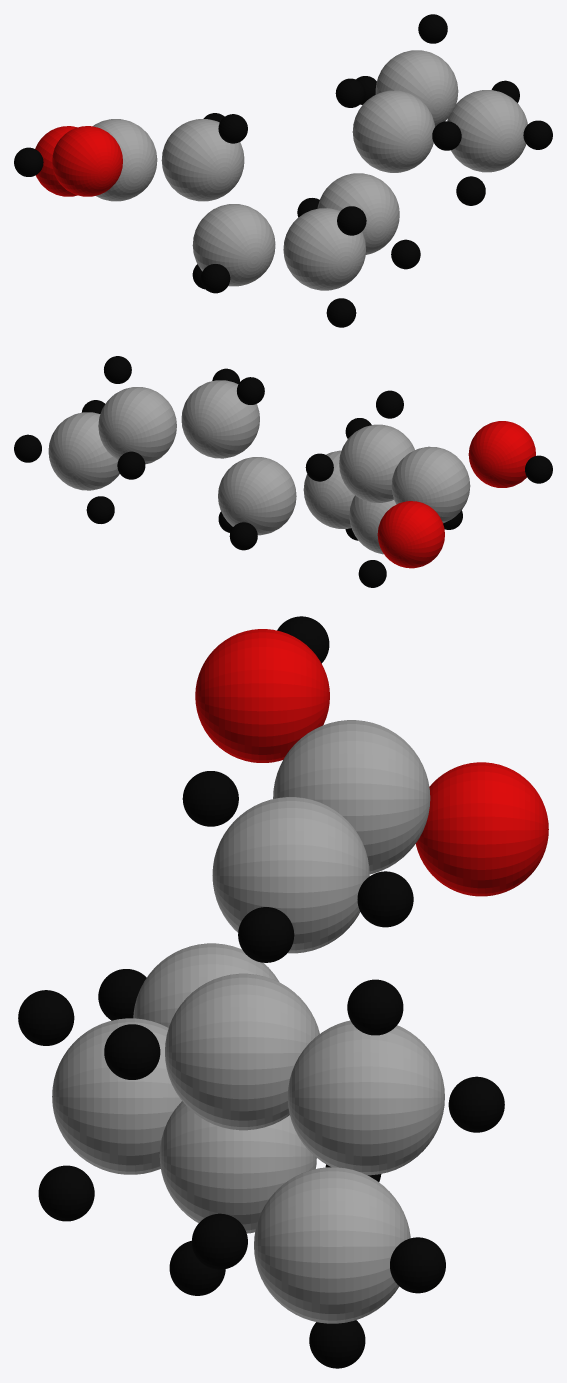
Rendered from Capric Acid.glb.
The picture shows the model from 3 angles, top to bottom: view 1: azimuth 30°, elevation 25°; view 2: azimuth 150°, elevation 25°; view 3: azimuth 270°, elevation 25°; orthographic projection. The views are drawn at different scales.
Visible parts, largest first — view 1: world; view 2: world; view 3: world.
Part boxes in pixels (x1,y1,x2,y2): world: (14,14,552,327); world: (14,356,552,587); world: (18,616,548,1368).
Size of the model in its own units: 10.41 by 3.9 by 4.73.
